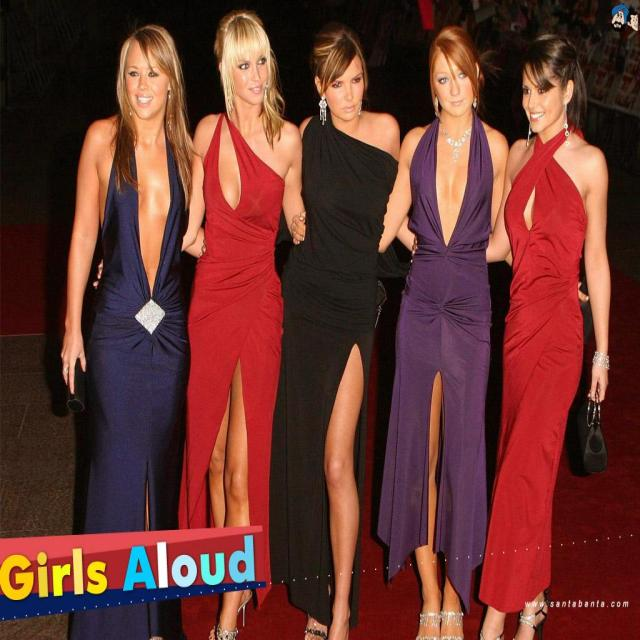Face: (122, 36, 173, 127), (438, 42, 481, 124), (230, 34, 276, 108), (326, 55, 370, 129), (524, 63, 570, 133)
